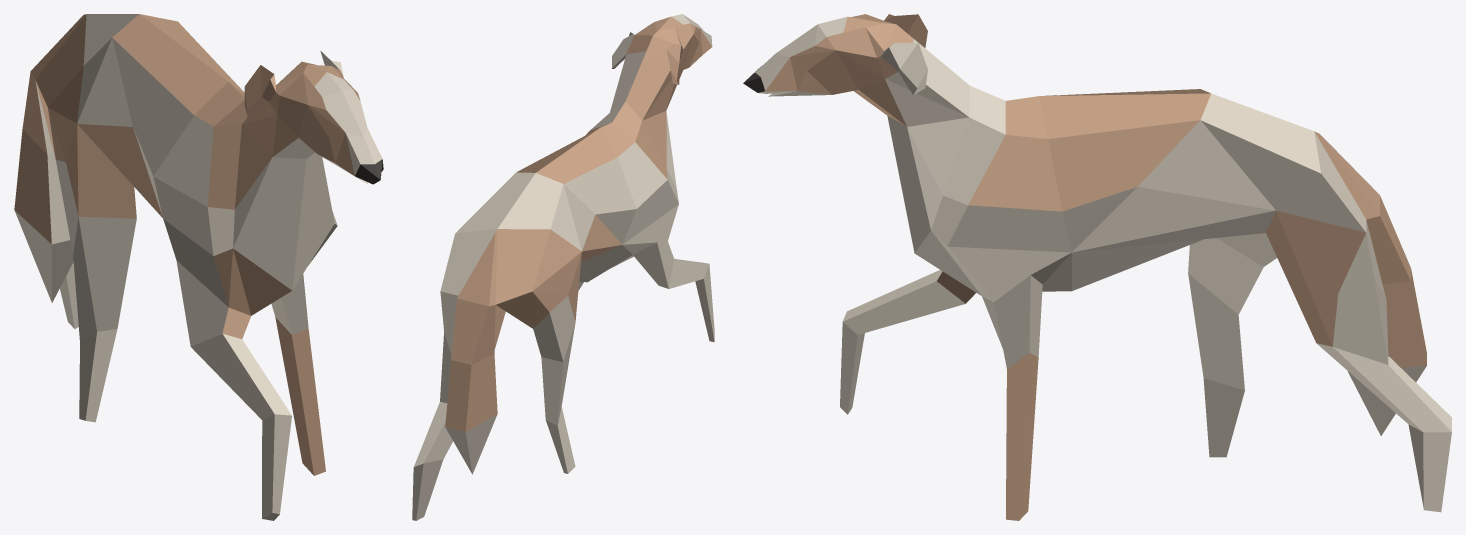
File: borzoi.glb
3 renders of one model, left to right at view 1: azimuth 30°, elevation 25°; view 2: azimuth 150°, elevation 25°; view 3: azimuth 270°, elevation 25°, orthographic. The views are drawn at different scales.
Parts seen in each view (by area): view 1: pCube2; view 2: pCube2; view 3: pCube2.
Part boxes in pixels (<box>): pCube2: <box>14,14,383,520</box>; pCube2: <box>412,14,714,520</box>; pCube2: <box>743,14,1451,520</box>.
Bounding box in the file's own units: 2.21 × 6.96 × 9.49.
